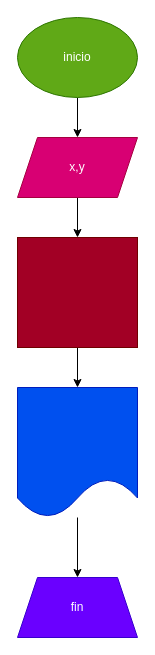
The diagram is 155 pixels wide and 655 high, and some of its shapes have lost their labels. Each missing label, with the box of its shape:
s = x + y r = x - y m = x * y d = x / y mod = x%y de = x//y p = x ++ y: (16, 236, 138, 348)
suma = s resta = s multiplicacion = m division = d porcentaje = mod potencia = p: (16, 386, 138, 518)
